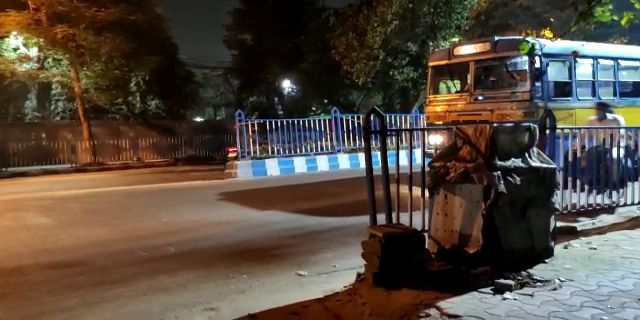Bus: (428, 37, 632, 186)
